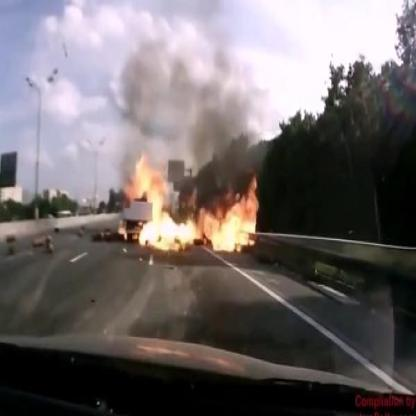fire: (118, 150, 262, 259)
